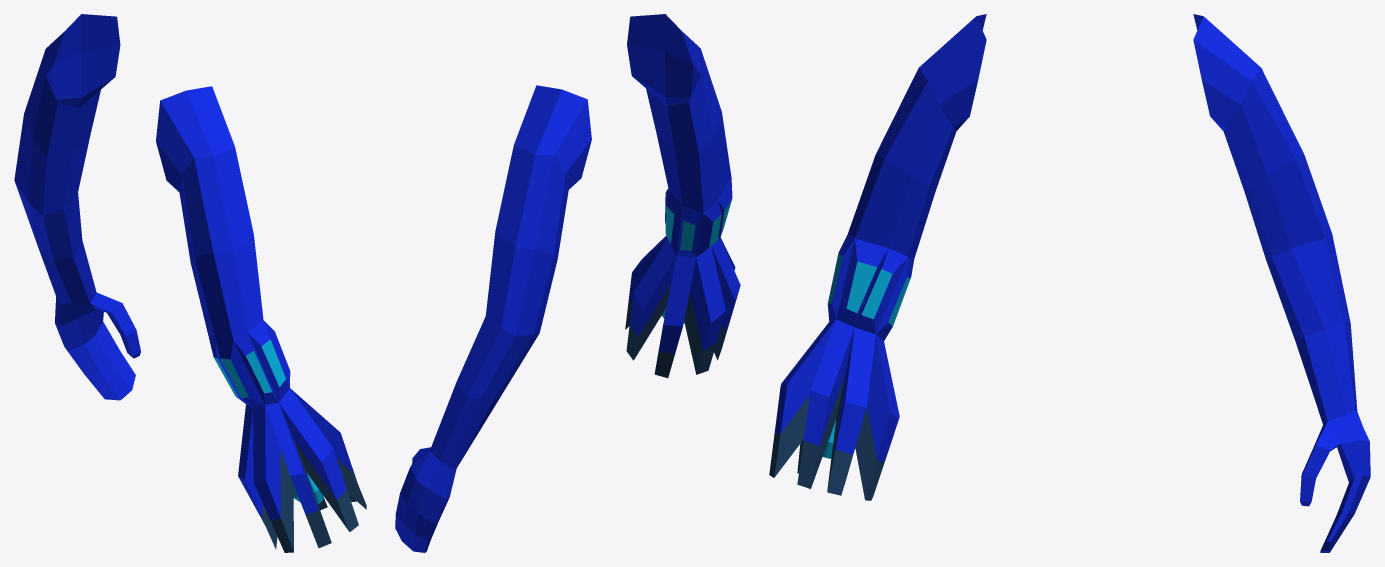
The model's file is arms.fbx.
3 views of the same model, side by side, from view 1: azimuth 30°, elevation 25°; view 2: azimuth 150°, elevation 25°; view 3: azimuth 270°, elevation 25° (orthographic). The views are drawn at different scales.
Parts seen in each view (by area): view 1: Cube.001, Cube.002; view 2: Cube.002, Cube.001; view 3: Cube.001, Cube.002.
Part boxes in pixels (x1,y1,x2,y2): Cube.001: [156, 86, 366, 552]; Cube.002: [14, 14, 140, 400]; Cube.002: [395, 85, 591, 552]; Cube.001: [625, 14, 740, 378]; Cube.001: [769, 14, 986, 500]; Cube.002: [1193, 14, 1370, 552].
Size of the model in its own units: 65.36 by 199 by 223.
